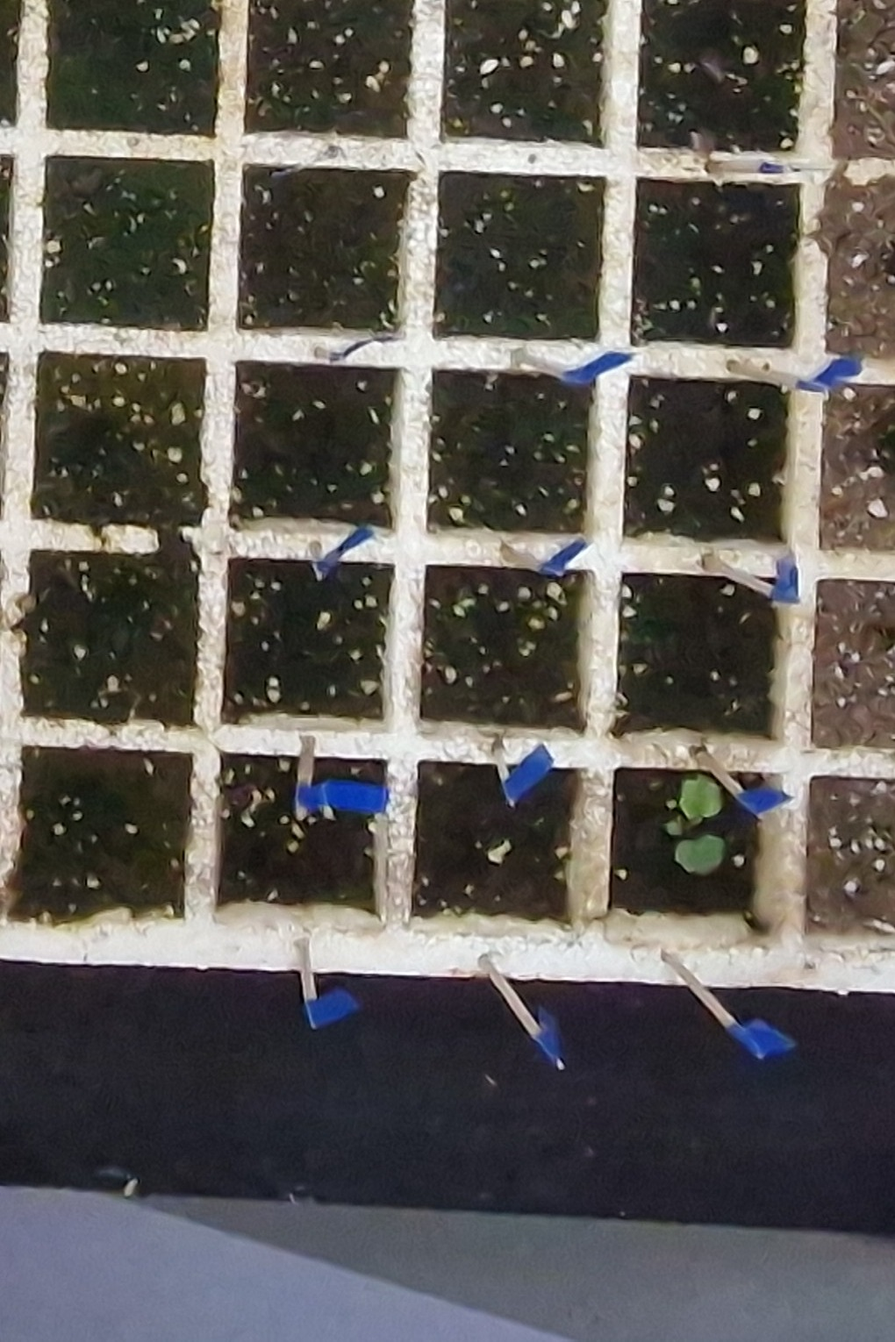Folha: (676, 835, 723, 870), (679, 780, 721, 818), (668, 815, 685, 836)
Germinacao: (666, 778, 724, 872)
